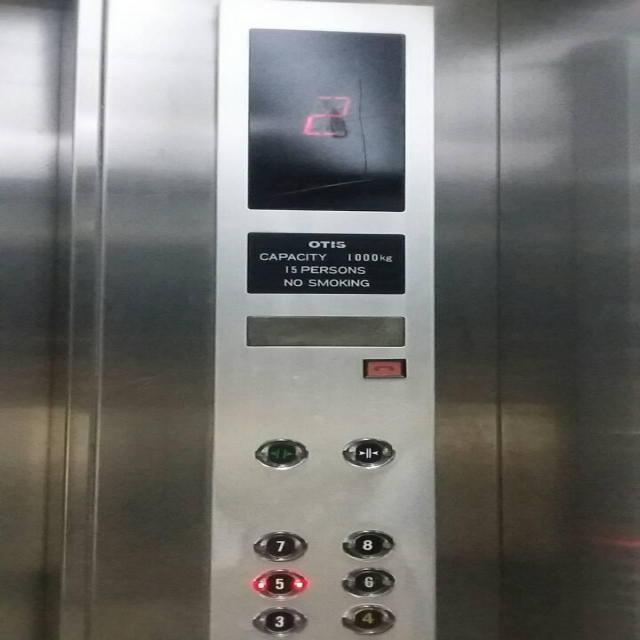3: (249, 605, 309, 637)
4: (338, 603, 396, 636)
5: (249, 567, 309, 601)
6: (339, 565, 396, 599)
7: (251, 530, 309, 562)
8: (338, 527, 396, 561)
alarm: (360, 356, 408, 378)
close: (339, 434, 397, 470)
led: (241, 24, 410, 216)
open: (251, 436, 309, 471)
